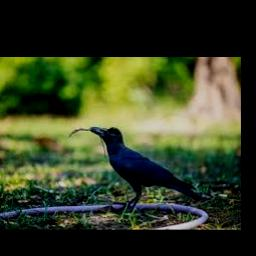Crow: (90, 127, 208, 207)
